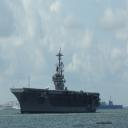Portanaves: (11, 44, 102, 116)
